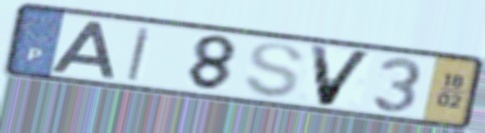3: (369, 55, 424, 115)
8: (183, 33, 242, 93)
A: (48, 19, 118, 81)
I: (124, 24, 155, 83)
S: (241, 40, 307, 100)
V: (306, 42, 377, 109)
